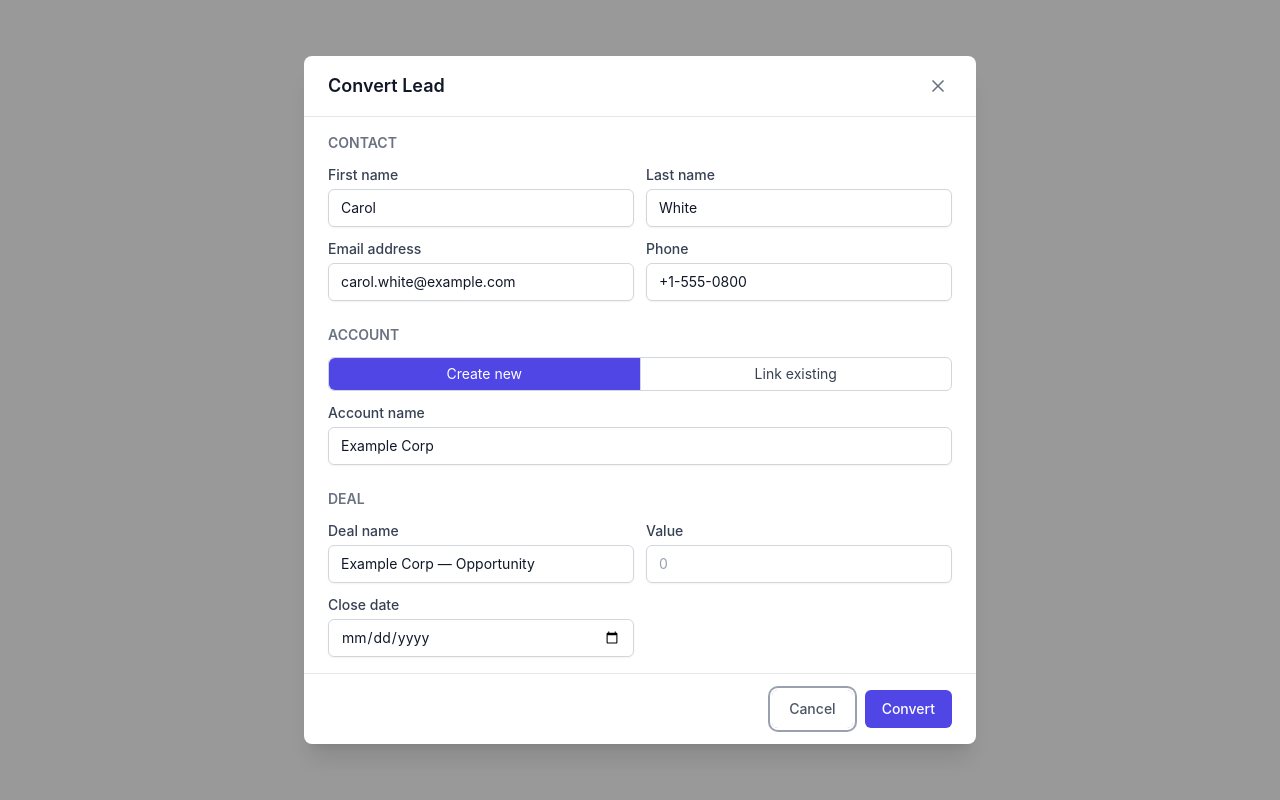
Test case: ConvertLeadModal › account mode toggle › switches to "Link" mode and shows the search input when Link button is clicked
The image size is (1280, 800).
Step 1. Click the button with test id "account-mode-link" → point(795, 374), box left=640, top=358, right=951, bottom=390
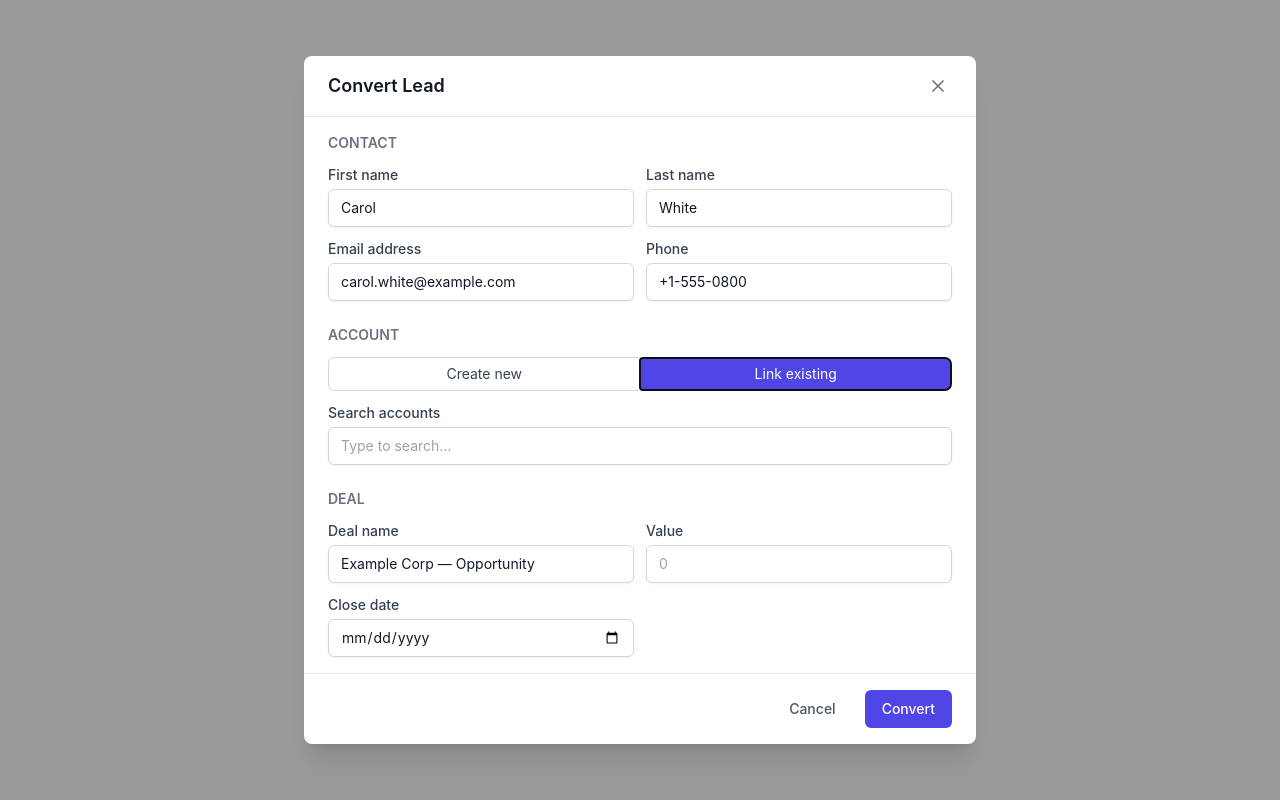
Expected: the label with test id "convert-account-name" is gone
Expected: the field with test id "convert-account-search" is shown, left=328, top=427, right=952, bottom=465
